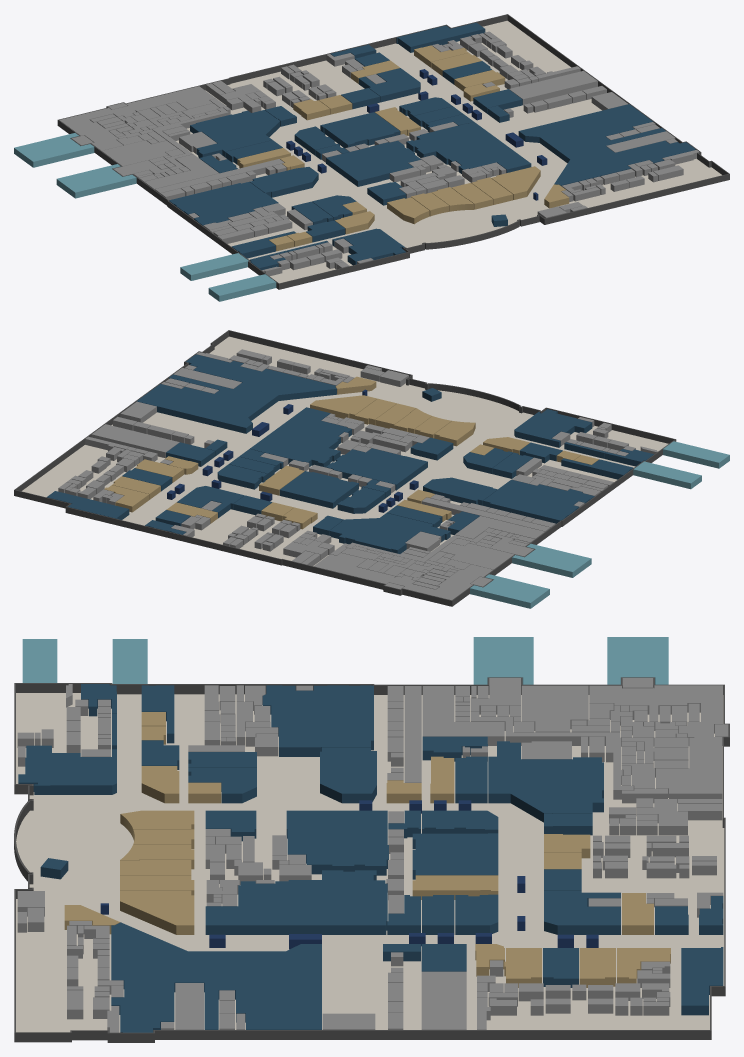
3 views of the same model, one above another, from view 1: azimuth 30°, elevation 25°; view 2: azimuth 150°, elevation 25°; view 3: azimuth 270°, elevation 25° (orthographic). The views are drawn at different scales.
Visible parts, largest first — view 1: ff_ground, ff_frame, ff_g-35-36-37001, ff_tr_b043, ff_g-10001, ff_tr_g002, ff_tr_g001, ff_tr_d031, ff_g-17001, ff_g-27001, ff_tr_b039, ff_tr_g003 (+50 smaller); view 2: ff_ground, ff_frame, ff_g-35-36-37001, ff_g-10001, ff_tr_b043, ff_tr_g002, ff_tr_g001, ff_tr_d031, ff_g-17001, ff_tr_b039, ff_tr_g003, ff_tr_g004 (+54 smaller); view 3: ff_ground, ff_g-35-36-37001, ff_frame, ff_tr_b043, ff_g-10001, ff_g-17001, ff_tr_b039, ff_tr_g002, ff_tr_d031, ff_g-40001, ff_tr_g001, ff_tr_g (+69 smaller).
Boxes of the visible parts, left/top/right/bottom form: ff_ground: left=176, top=20, right=721, bottom=283; ff_frame: left=57, top=14, right=729, bottom=289; ff_g-35-36-37001: left=518, top=104, right=695, bottom=186; ff_tr_b043: left=59, top=86, right=215, bottom=150; ff_g-10001: left=169, top=182, right=278, bottom=225; ff_tr_g002: left=14, top=133, right=94, bottom=167; ff_tr_g001: left=56, top=164, right=136, bottom=198; ff_tr_d031: left=509, top=70, right=597, bottom=105; ff_g-17001: left=196, top=121, right=280, bottom=157; ff_g-27001: left=396, top=22, right=485, bottom=52; ff_tr_b039: left=102, top=140, right=177, bottom=166; ff_tr_g003: left=180, top=253, right=248, bottom=280; ff_ground: left=22, top=336, right=668, bottom=566; ff_frame: left=14, top=330, right=676, bottom=606; ff_g-35-36-37001: left=136, top=354, right=336, bottom=433; ff_g-10001: left=483, top=479, right=594, bottom=523; ff_tr_b043: left=313, top=553, right=492, bottom=600; ff_tr_g002: left=470, top=574, right=549, bottom=608; ff_tr_g001: left=512, top=543, right=591, bottom=577; ff_tr_d031: left=91, top=424, right=179, bottom=458; ff_g-17001: left=345, top=513, right=450, bottom=541; ff_tr_b039: left=440, top=543, right=513, bottom=569; ff_tr_g003: left=633, top=461, right=701, bottom=489; ff_tr_g004: left=663, top=441, right=729, bottom=468; ff_ground: left=16, top=693, right=724, bottom=1032; ff_g-35-36-37001: left=111, top=922, right=321, bottom=1032; ff_frame: left=14, top=677, right=729, bottom=1042; ff_tr_b043: left=589, top=685, right=722, bottom=803; ff_g-10001: left=262, top=685, right=373, bottom=756; ff_g-17001: left=488, top=741, right=543, bottom=822; ff_tr_b039: left=521, top=685, right=588, bottom=732; ff_tr_g002: left=607, top=637, right=668, bottom=684; ff_tr_d031: left=421, top=971, right=466, bottom=1029; ff_g-40001: left=120, top=890, right=194, bottom=934; ff_tr_g001: left=473, top=637, right=533, bottom=684; ff_tr_g: left=422, top=686, right=504, bottom=745.
Size of the model in its own units: 3.58 by 0.04 by 2.73.
